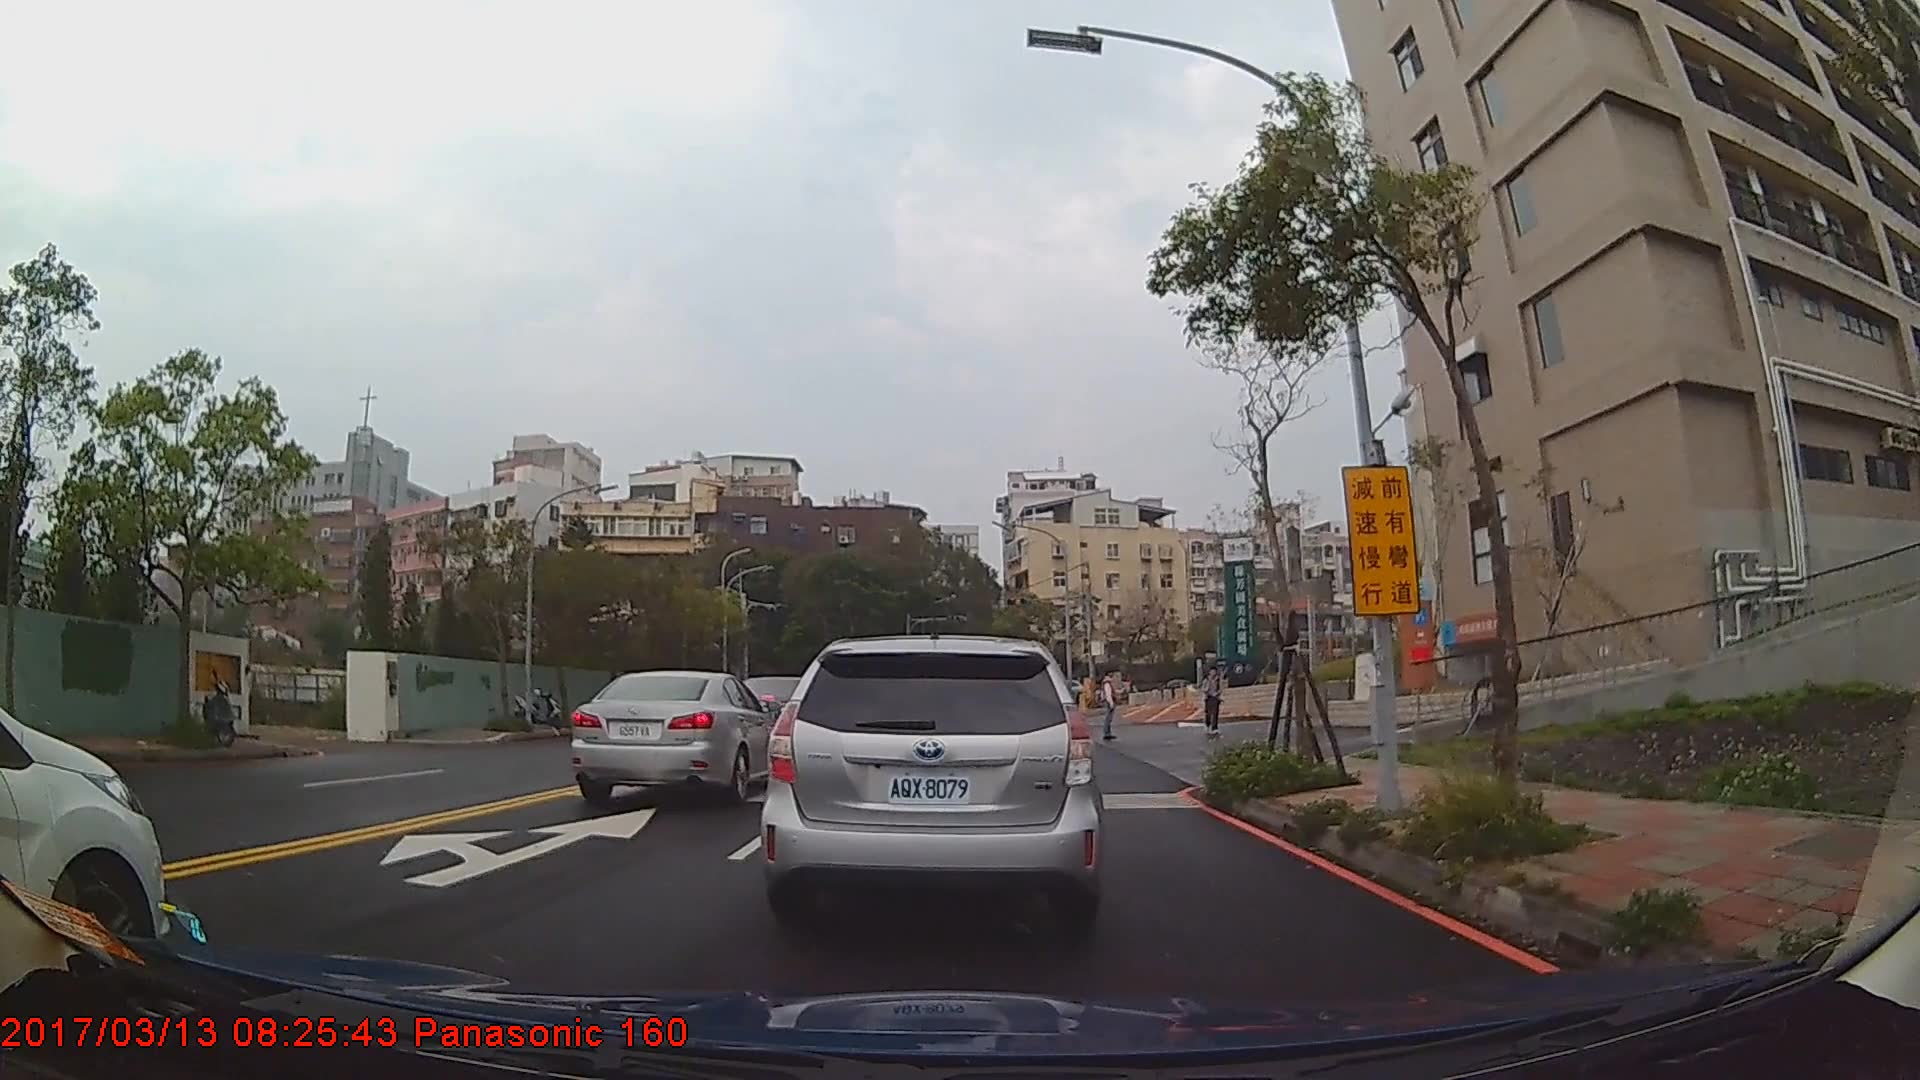pedestrian: (1099, 667, 1124, 743), (1202, 670, 1224, 738)
vehicle: (758, 634, 1104, 919), (0, 698, 166, 967), (569, 669, 789, 799)
